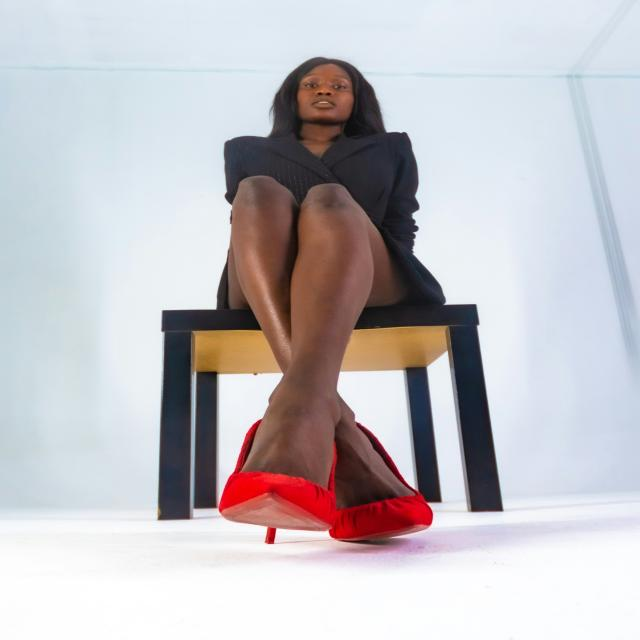piel: (227, 174, 415, 508), (295, 65, 355, 160)
